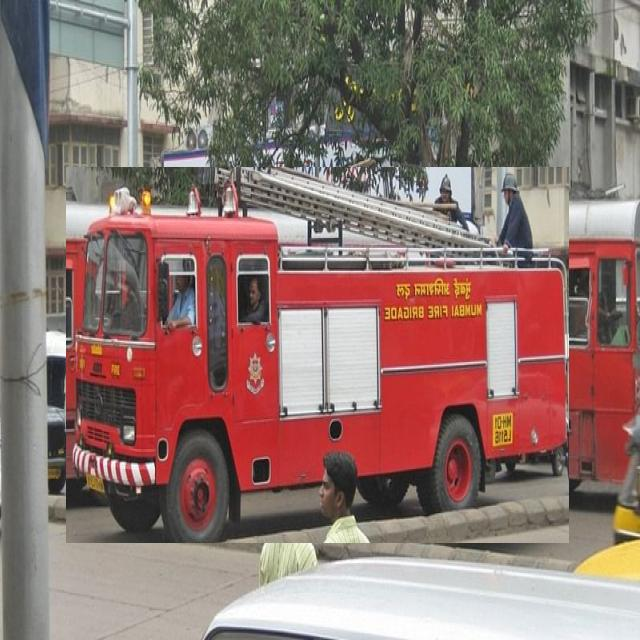emergency: (66, 167, 569, 543)
